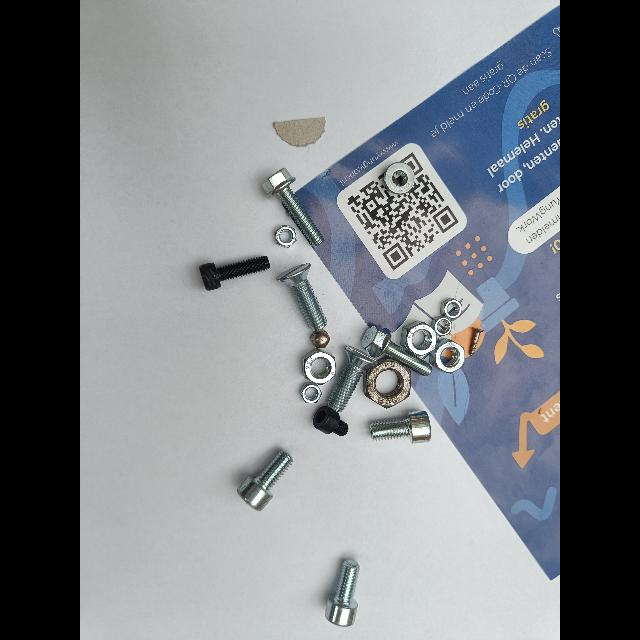bolt: (262, 168, 324, 247), (362, 325, 432, 376), (276, 263, 327, 331), (237, 450, 293, 510), (327, 346, 377, 412), (325, 558, 360, 627), (199, 256, 270, 290), (370, 411, 431, 443), (313, 406, 348, 436), (468, 319, 485, 356)
nuts: (363, 359, 411, 408), (400, 321, 437, 359), (302, 349, 336, 386), (383, 162, 416, 196), (434, 338, 465, 373), (440, 298, 463, 322), (300, 380, 322, 404), (432, 315, 455, 337), (275, 225, 297, 248), (310, 329, 330, 351)
